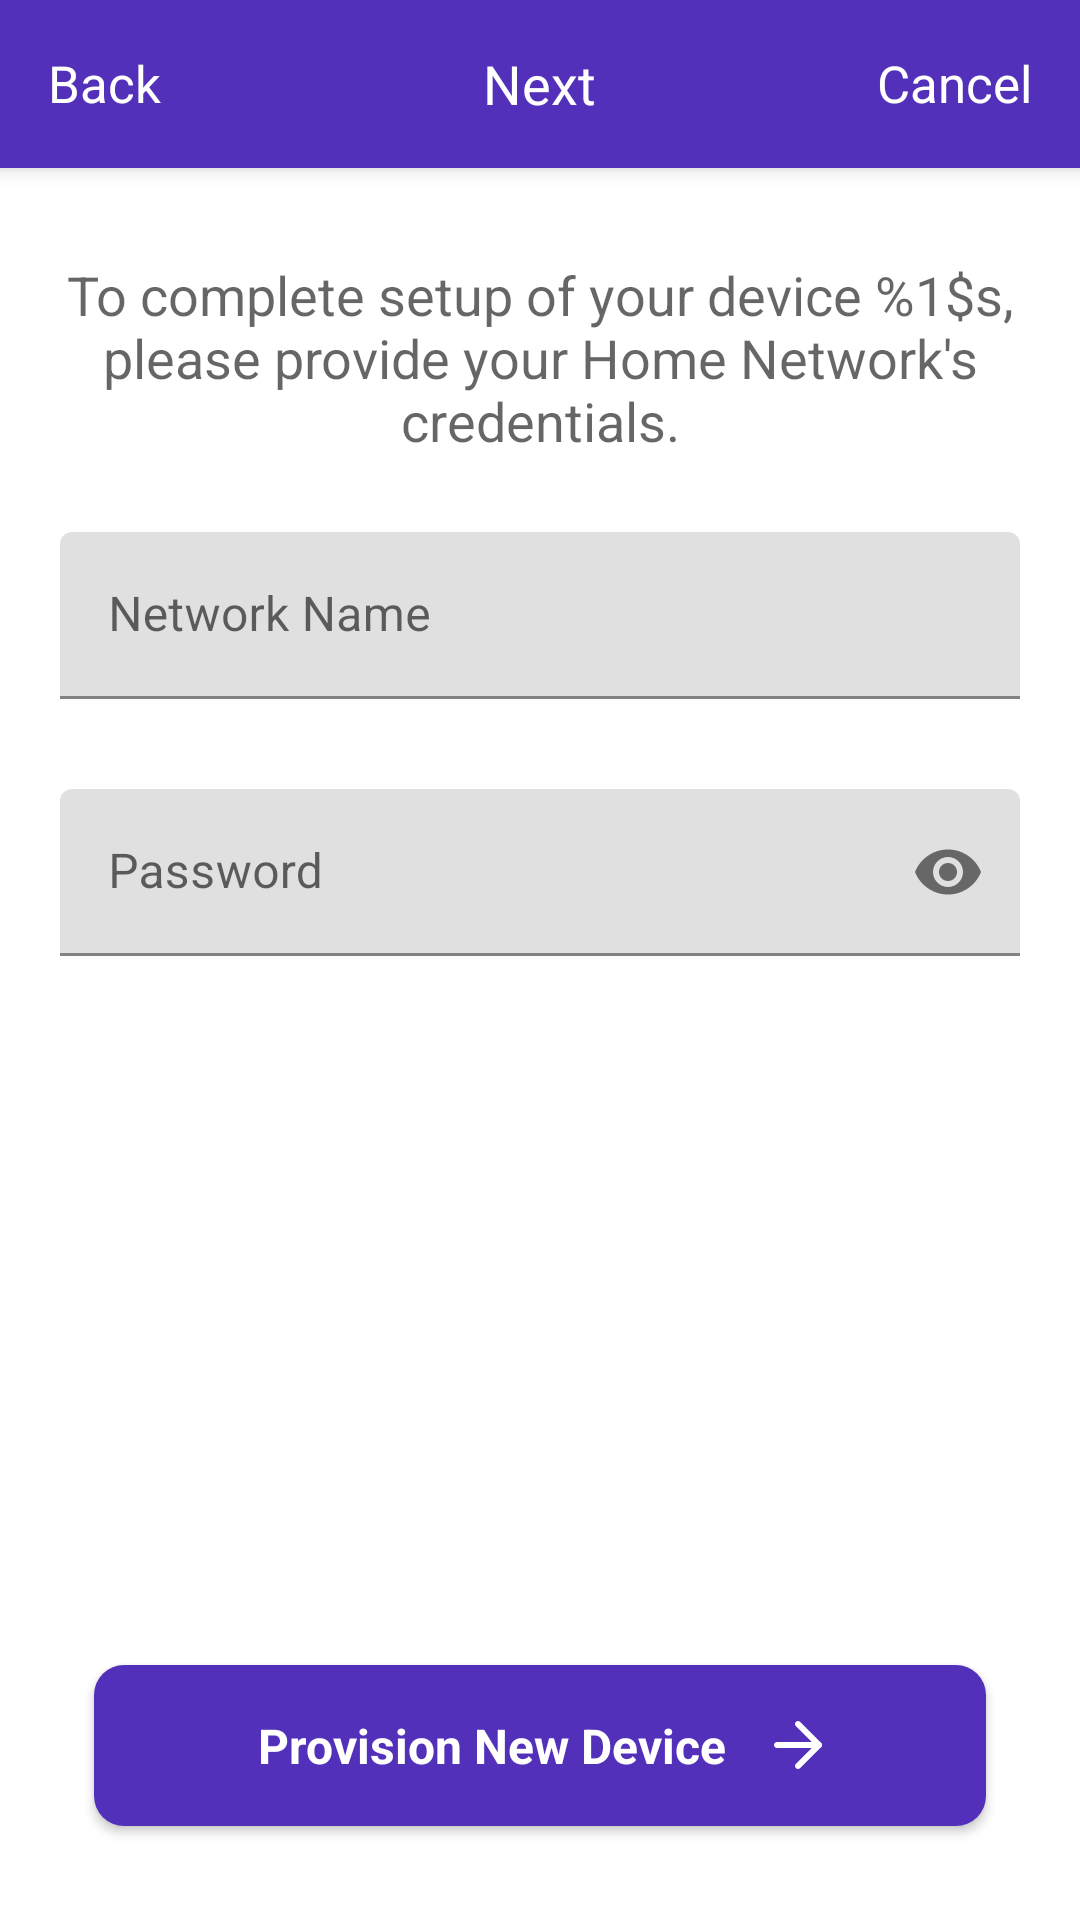

Point at icon controls on the screen. Image size 1080 × 1920, points as (x,y).
right arrow: (798,1745)
